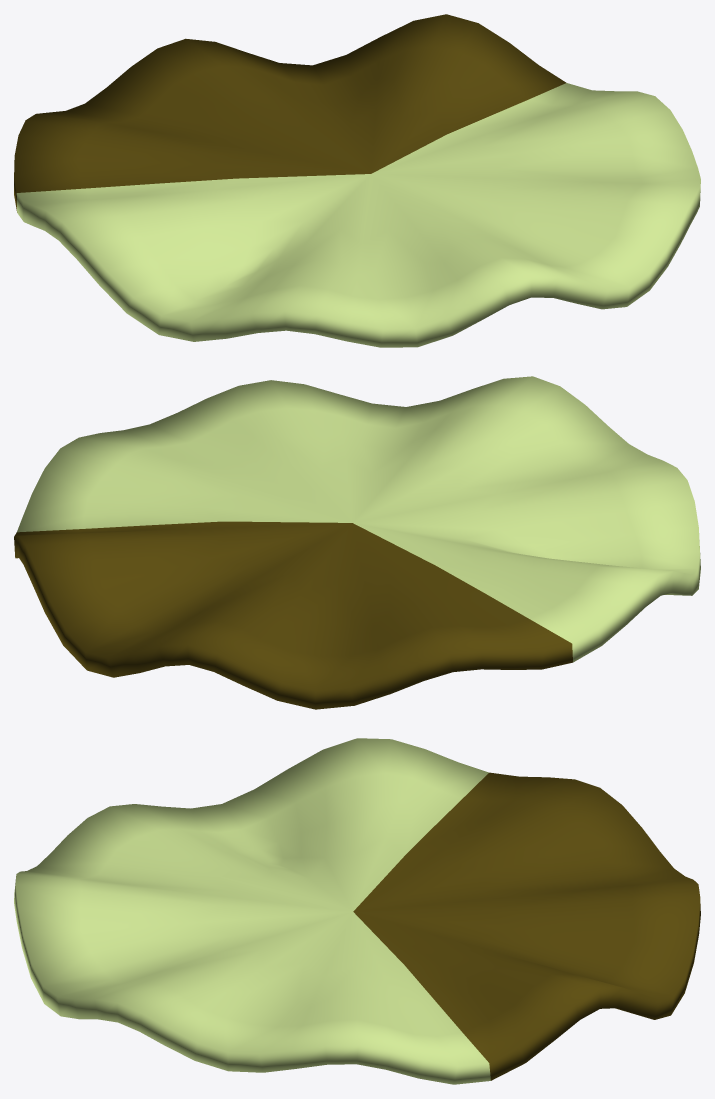
Rendered from moldyLettuce.fbx.
The picture shows the model from 3 angles, top to bottom: view 1: azimuth 30°, elevation 25°; view 2: azimuth 150°, elevation 25°; view 3: azimuth 270°, elevation 25°; orthographic projection.
Visible parts, largest first — view 1: Circle.001; view 2: Circle.001; view 3: Circle.001.
Boxes of the visible parts, x1=… form: Circle.001: x1=14, y1=14, x2=700, y2=347; Circle.001: x1=14, y1=376, x2=700, y2=709; Circle.001: x1=14, y1=738, x2=700, y2=1084.
Bounding box in the file's own units: 195 × 24.77 × 196.
